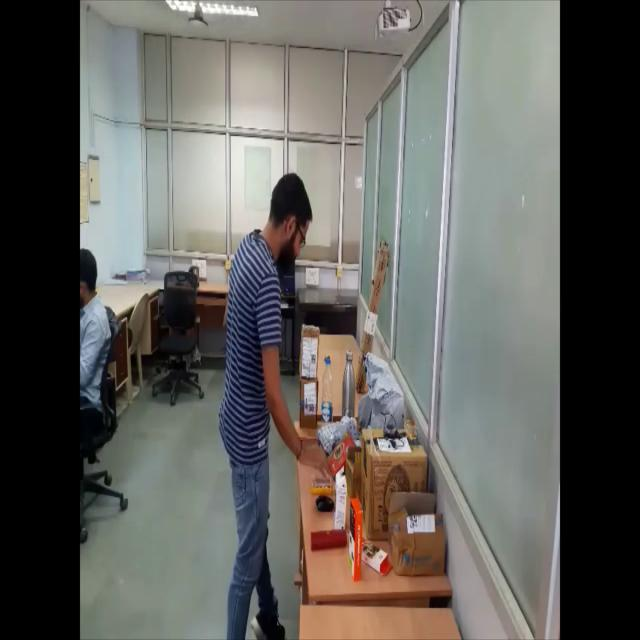normal: (210, 170, 338, 640)
